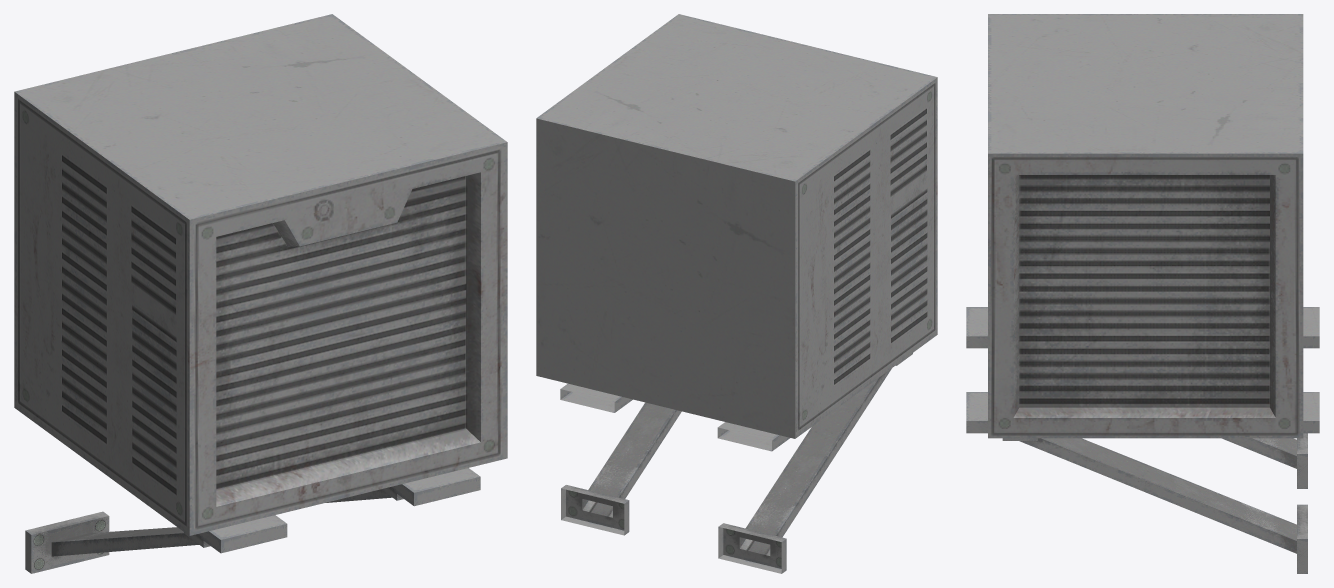
File: Conditioner_01.fbx
The picture shows the model from 3 angles, left to right: view 1: azimuth 30°, elevation 25°; view 2: azimuth 150°, elevation 25°; view 3: azimuth 270°, elevation 25°; orthographic projection. The views are drawn at different scales.
Parts seen in each view (by area): view 1: Conditioner_01; view 2: Conditioner_01; view 3: Conditioner_01.
Boxes of the visible parts, x1,y1,x2,y2 form: Conditioner_01: (14,14,507,573); Conditioner_01: (536,14,937,573); Conditioner_01: (966,14,1319,573).
Bounding box in the file's own units: 52.99 × 76.92 × 56.63.
